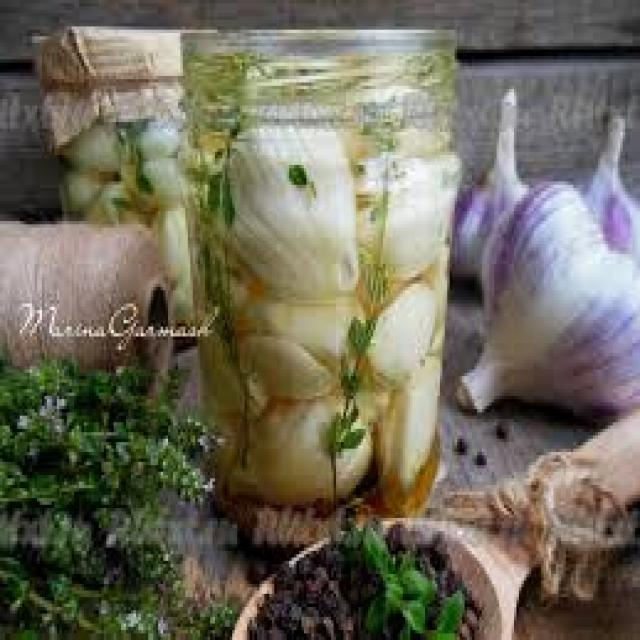Garlic: (182, 76, 471, 459), (477, 167, 640, 425), (455, 87, 640, 307)
